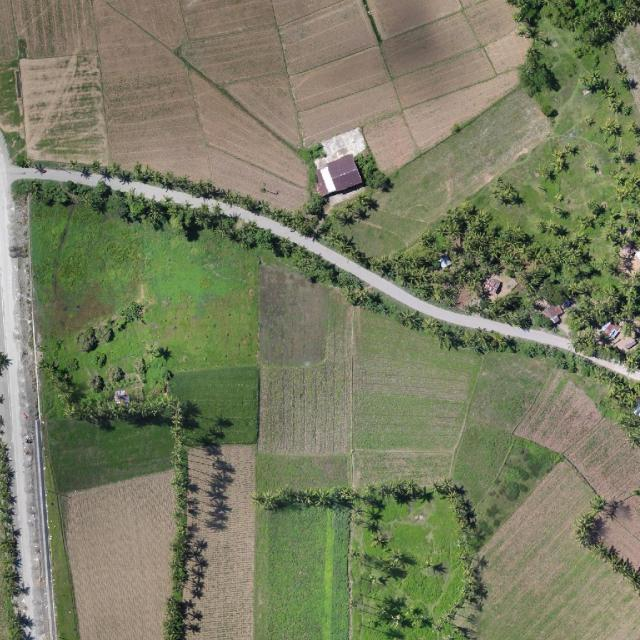agricultural_land: (25, 186, 640, 640)
building: (312, 125, 384, 200)
